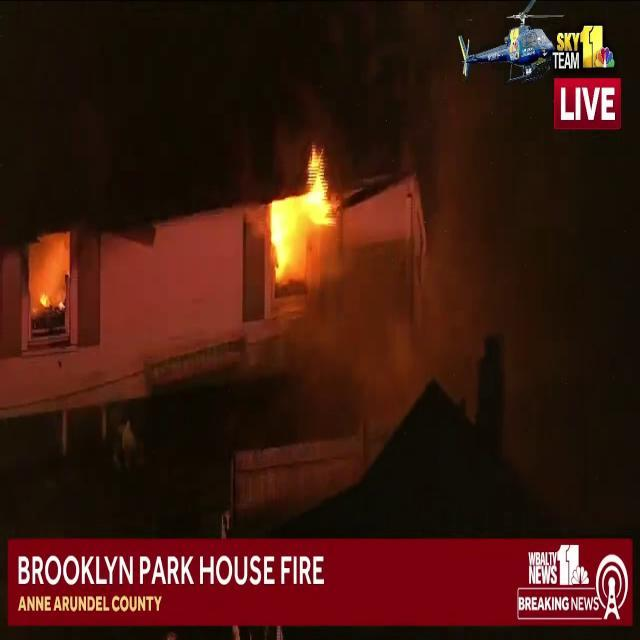Fire: (262, 138, 344, 282)
